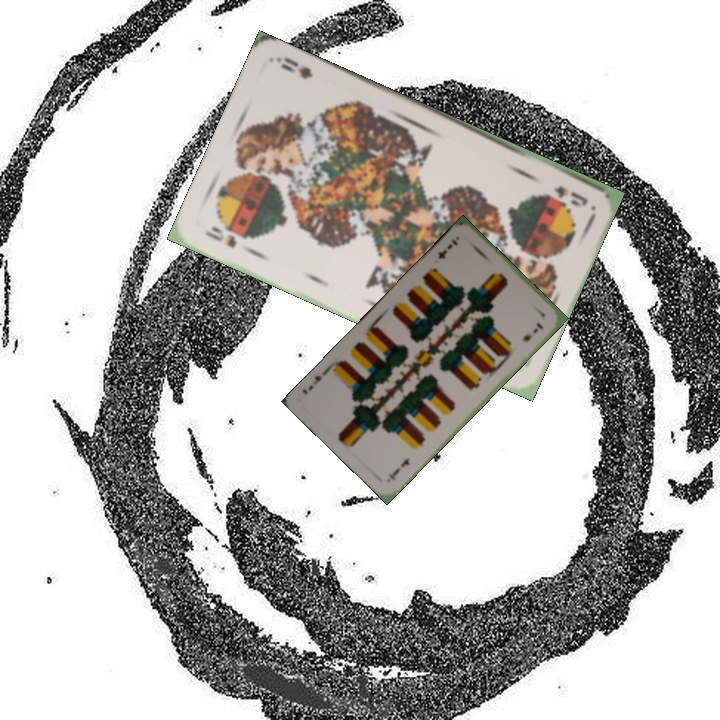E7: (384, 454, 412, 483), (434, 235, 461, 262)
SO: (549, 181, 591, 210), (201, 222, 240, 251)
